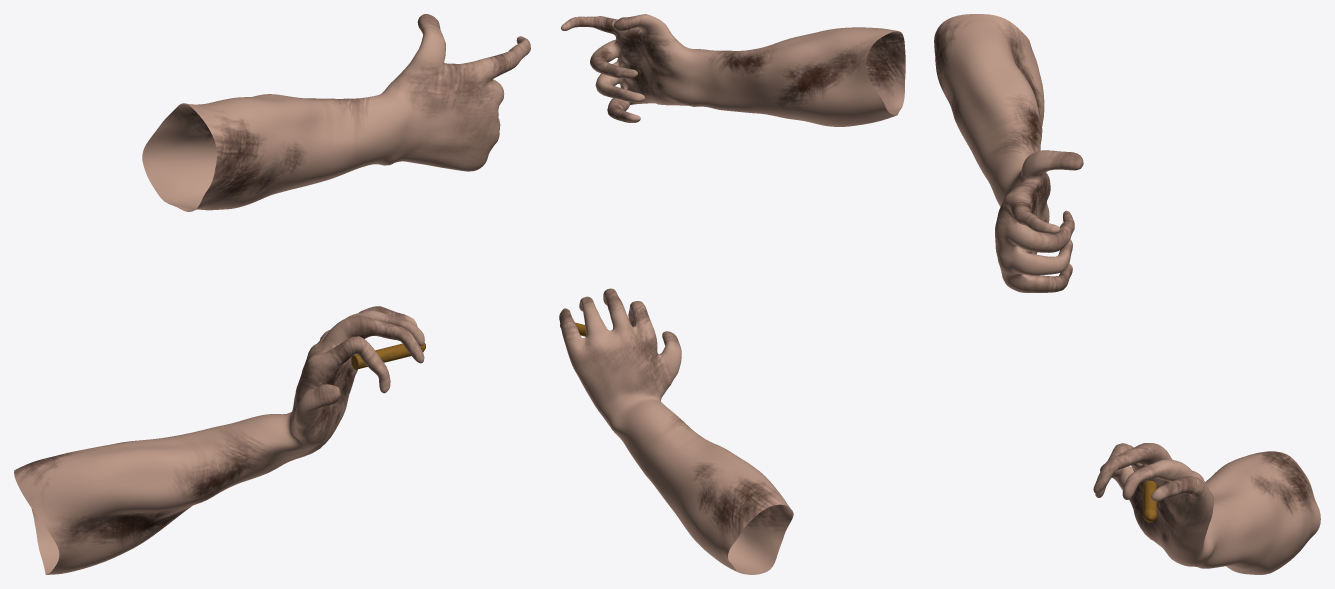
File: Arms-1.fbx
3 views of the same model, side by side, from view 1: azimuth 30°, elevation 25°; view 2: azimuth 150°, elevation 25°; view 3: azimuth 270°, elevation 25° (orthographic). The views are drawn at different scales.
Visible parts, largest first — view 1: polySurface7, polySurface6; view 2: polySurface6, polySurface7; view 3: polySurface7, polySurface6, Loading_Ammo.
Part boxes in pixels (x1,y1,x2,y2): polySurface7: (142,14,530,211); polySurface6: (14,306,424,574); polySurface6: (559,288,793,574); polySurface7: (561,14,905,126); polySurface7: (934,14,1083,292); polySurface6: (1093,443,1320,574); Loading_Ammo: (1143,480,1156,522).
Size of the model in its own units: 195 by 269 by 175.
